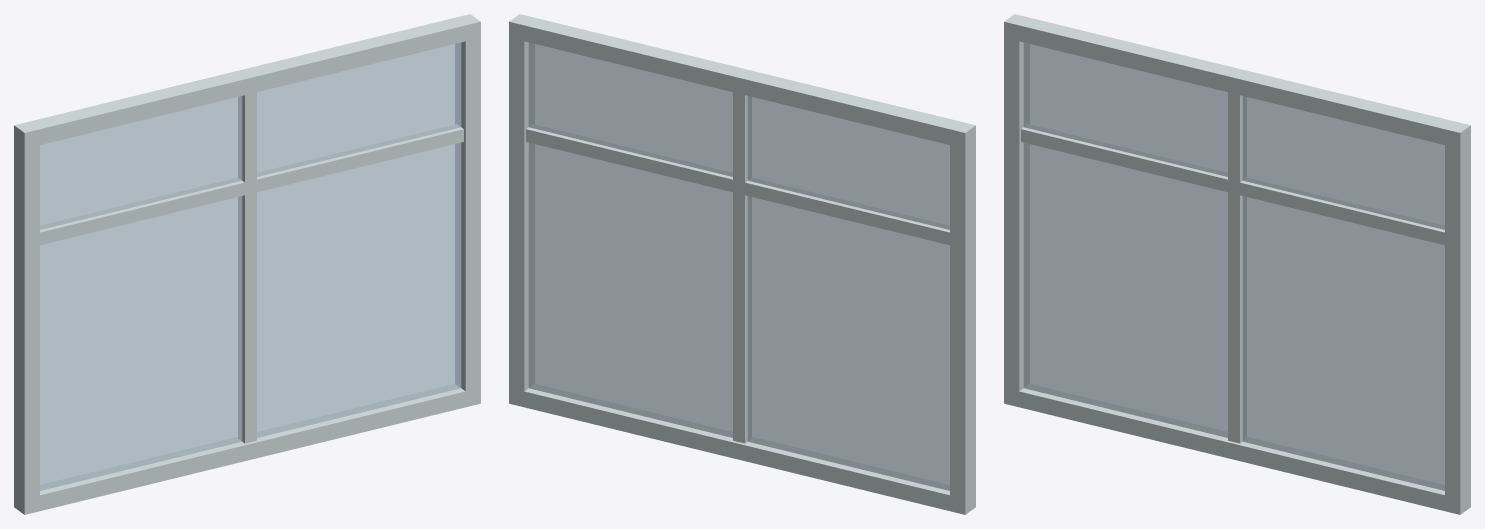
Rendered from window.glb.
3 views of the same model, side by side, from view 1: azimuth 30°, elevation 25°; view 2: azimuth 150°, elevation 25°; view 3: azimuth 330°, elevation 25° (orthographic).
Parts seen in each view (by area): view 1: window; view 2: window; view 3: window.
Boxes of the visible parts, x1=… form: window: x1=14, y1=14, x2=480, y2=514; window: x1=509, y1=14, x2=975, y2=514; window: x1=1004, y1=14, x2=1470, y2=514.
Bounding box in the file's own units: 1.5 × 1.2 × 0.0601.
